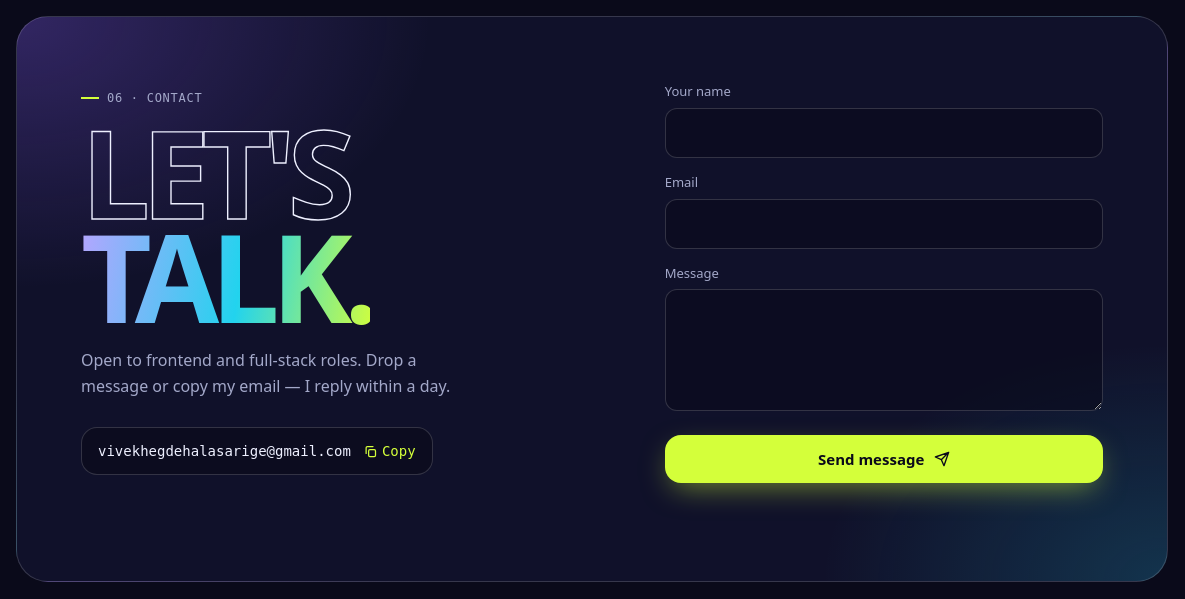
Test case: Contact form › submits to Netlify and confirms success
Type "Ada Lovelace" into the field labelled "Your name" at (884, 133), box [665,108,1103,158]
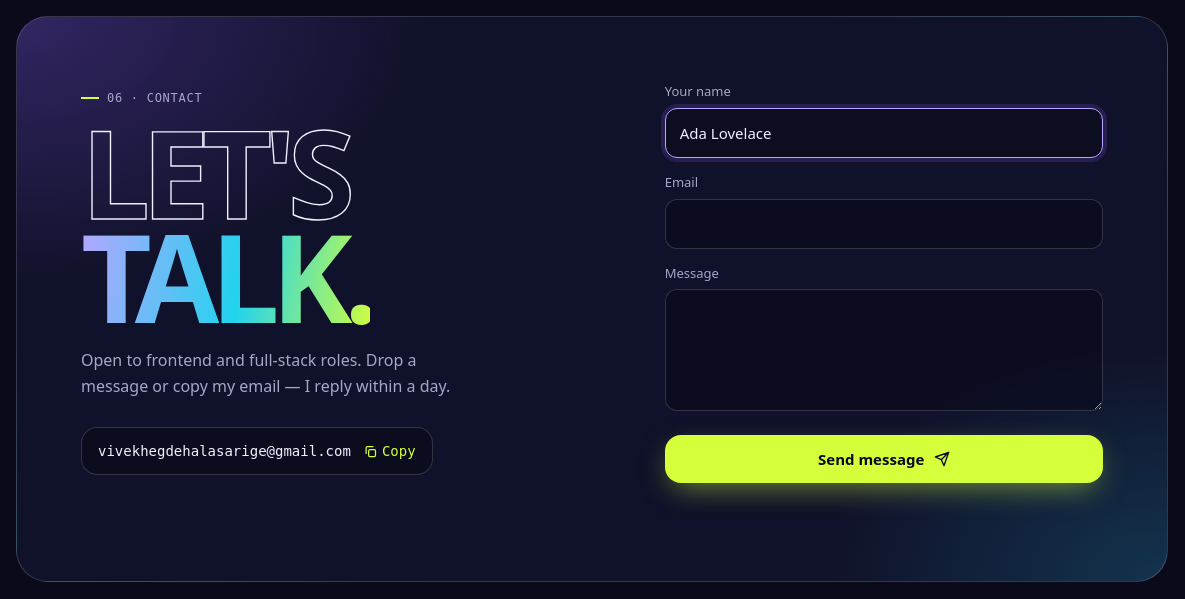
Type "ada@example.com" into the field labelled "Email" at (884, 224), box [665,199,1103,249]
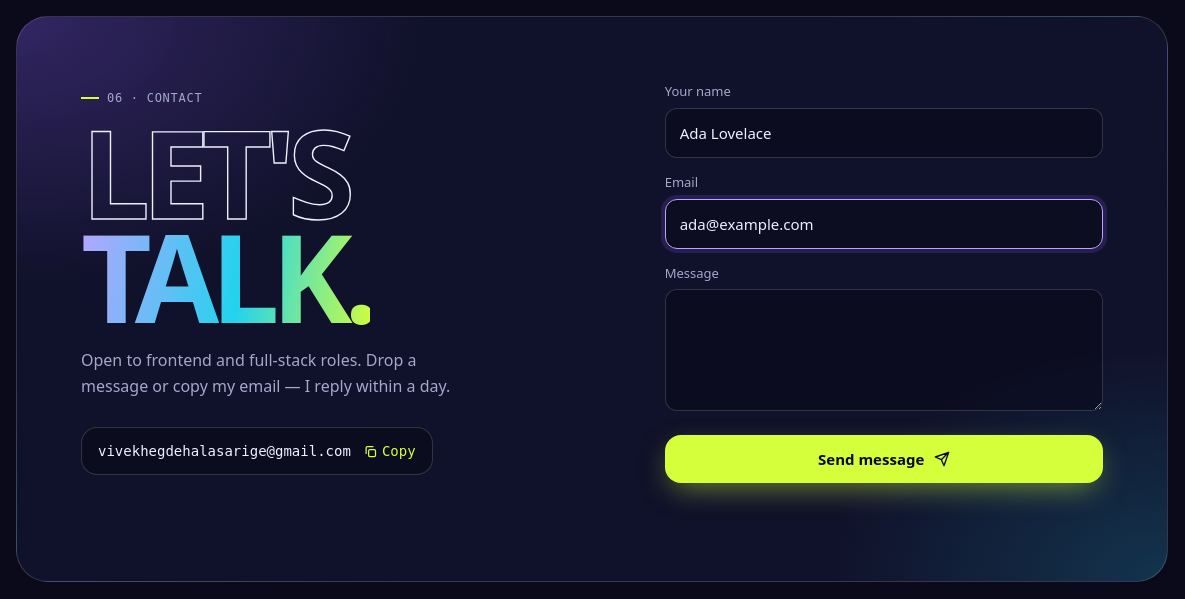
Type "Would love to chat about a role." into the text box labelled "Message" at (884, 350), box [665,289,1103,411]
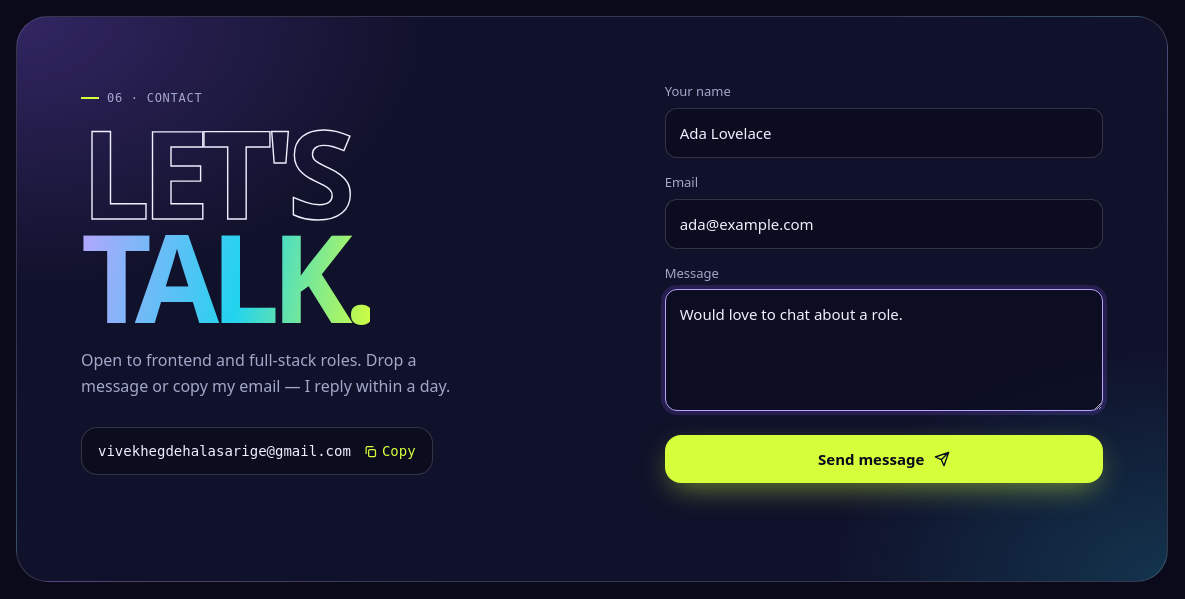
Click the button "Send message" at (884, 459), box [665,435,1103,483]
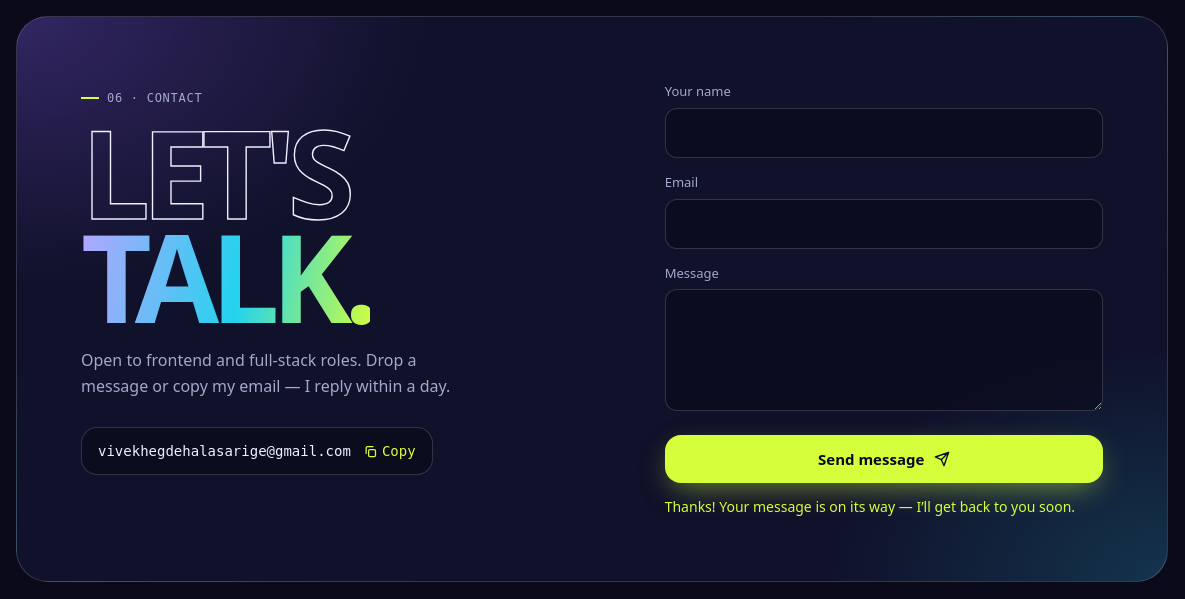
Result: the text "Your message is on its way" is shown at [665,497,1075,516]
